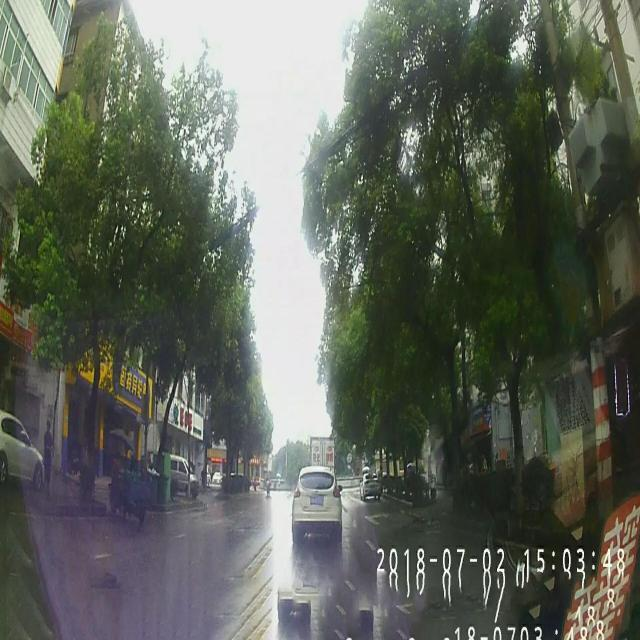car: (291, 466, 342, 542), (0, 408, 44, 492), (359, 469, 382, 501)
